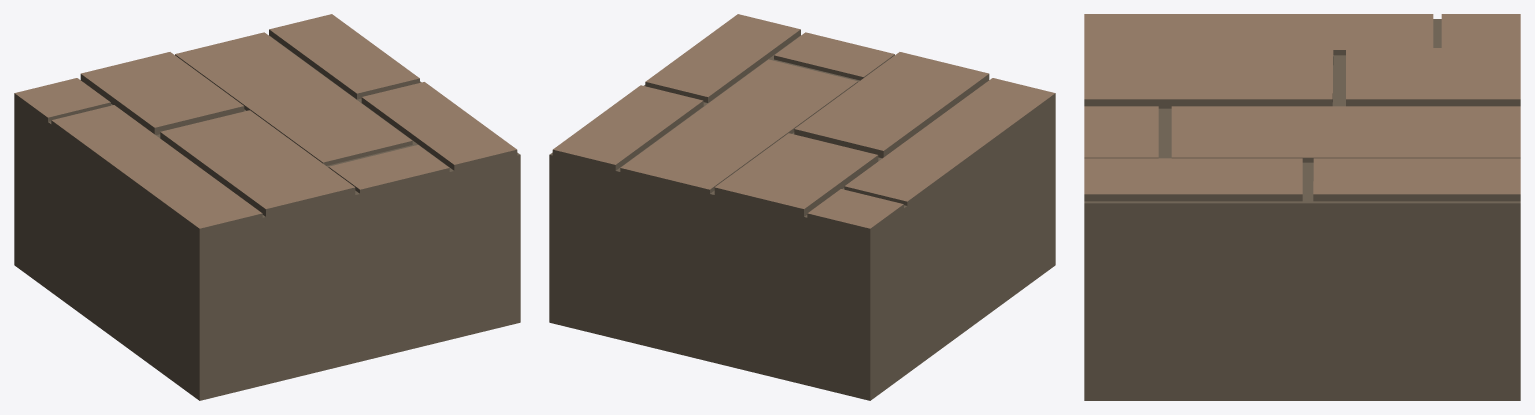
File: Floor.fbx
3 views of the same model, side by side, from view 1: azimuth 30°, elevation 25°; view 2: azimuth 150°, elevation 25°; view 3: azimuth 270°, elevation 25° (orthographic). The views are drawn at different scales.
Visible parts, largest first — view 1: pCube1; view 2: pCube1; view 3: pCube1.
Boxes of the visible parts, x1=… form: pCube1: x1=14, y1=14, x2=520, y2=400; pCube1: x1=549, y1=14, x2=1055, y2=400; pCube1: x1=1084, y1=14, x2=1520, y2=400.
Size of the model in its own units: 200 by 105 by 200.
